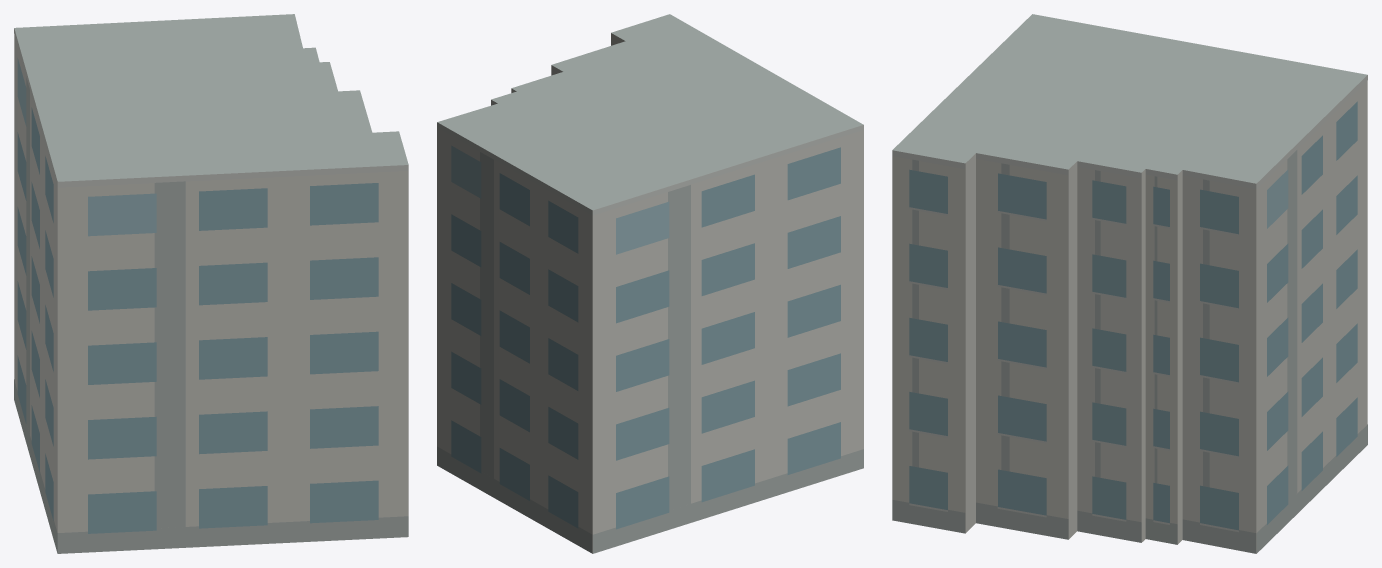
File: survey-upis-32885395.glb
The picture shows the model from 3 angles, left to right: view 1: azimuth 30°, elevation 25°; view 2: azimuth 150°, elevation 25°; view 3: azimuth 270°, elevation 25°; orthographic projection. The views are drawn at different scales.
Parts seen in each view (by area): view 1: survey-upis-32885395.tmp; view 2: survey-upis-32885395.tmp; view 3: survey-upis-32885395.tmp.
Boxes of the visible parts, left/top/right/bottom form: survey-upis-32885395.tmp: left=14, top=14, right=408, bottom=553; survey-upis-32885395.tmp: left=437, top=14, right=863, bottom=553; survey-upis-32885395.tmp: left=892, top=14, right=1367, bottom=553.
Bounding box in the file's own units: 15.55 × 15.8 × 18.41.
